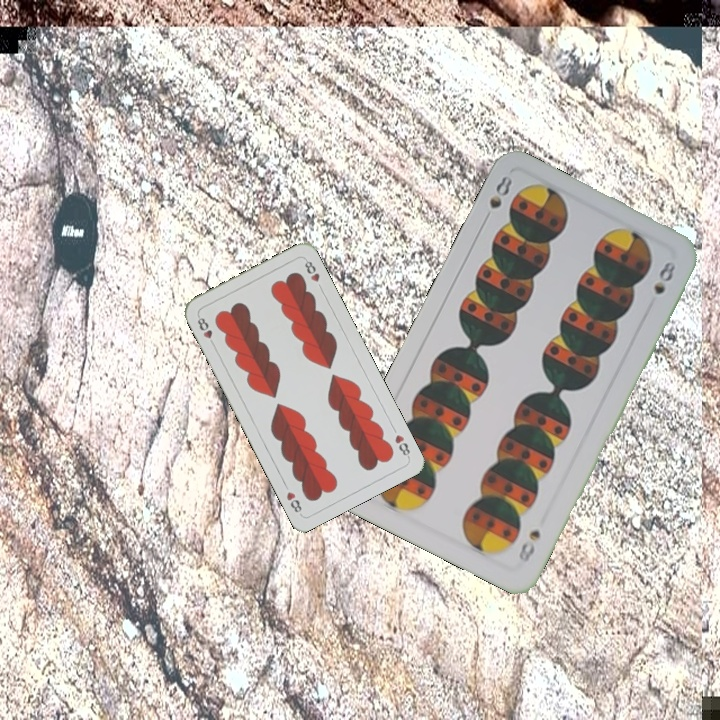H8: (193, 311, 218, 349), (391, 430, 413, 461)
S8: (478, 171, 515, 226), (514, 525, 543, 566)
